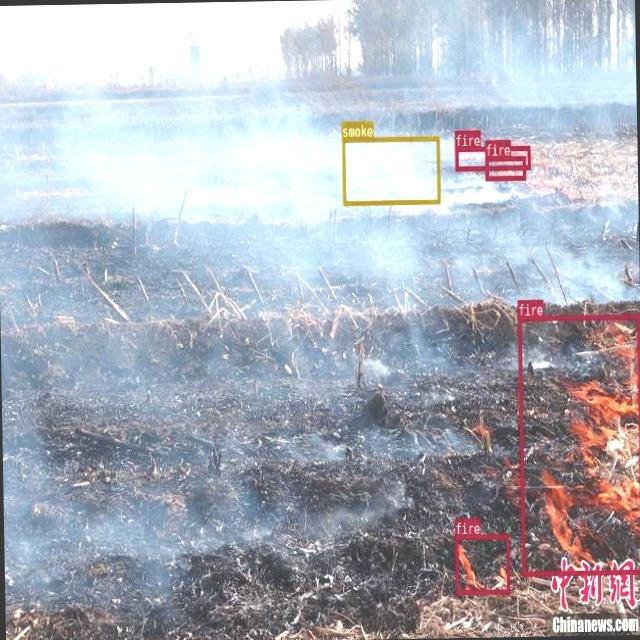fire: (517, 313, 640, 574), (454, 532, 510, 594), (454, 145, 529, 169), (484, 156, 526, 180)
smoke: (341, 134, 440, 204)
